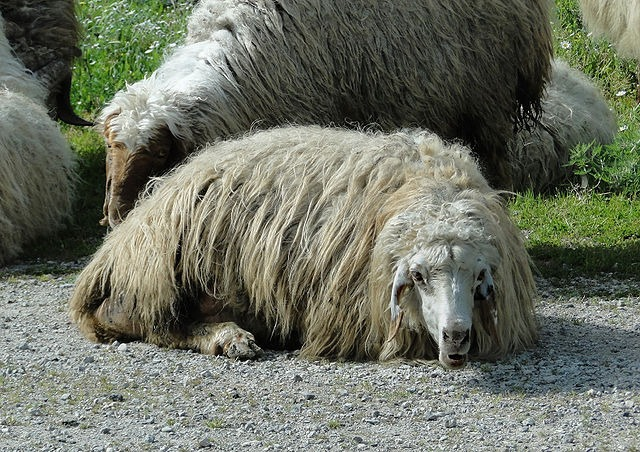resting: (71, 121, 538, 369)
